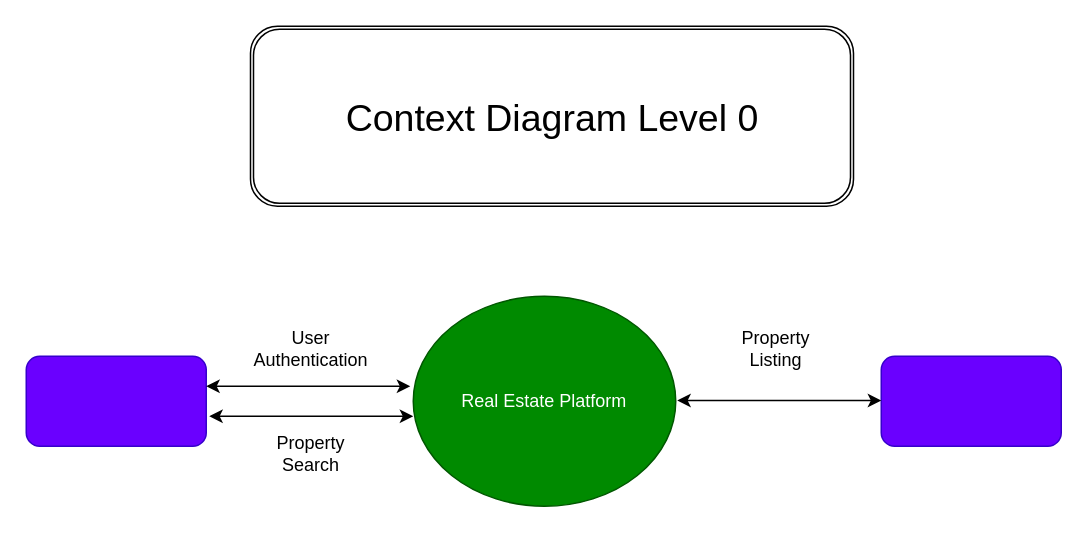
The diagram is 1088 pixels wide and 533 high, and some of its shapes have lost their labels. Here are the shapes that lost their labels. From the top down, the centre of each, then its label:
(x=115, y=400): User
(x=970, y=400): Agent
